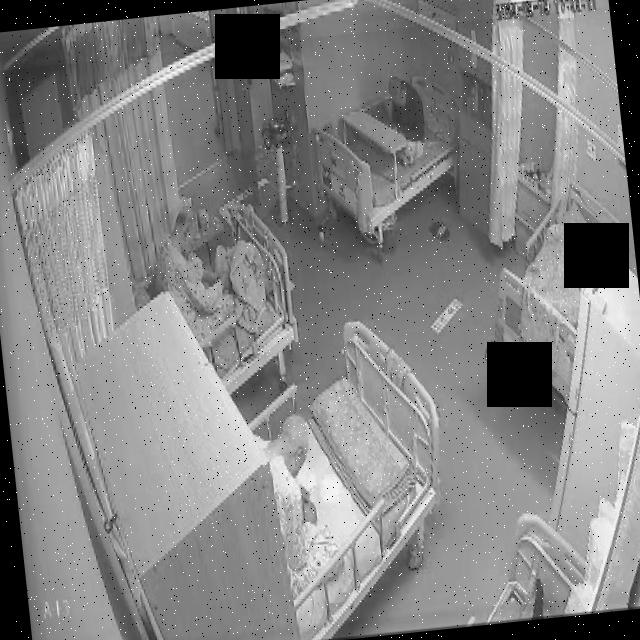bed: (254, 313, 460, 640), (481, 174, 640, 411), (158, 199, 302, 402), (307, 69, 463, 238)
patient: (146, 198, 280, 348), (254, 408, 342, 594), (380, 72, 430, 168)
sit: (150, 200, 278, 344), (254, 409, 344, 596), (380, 70, 431, 166)
